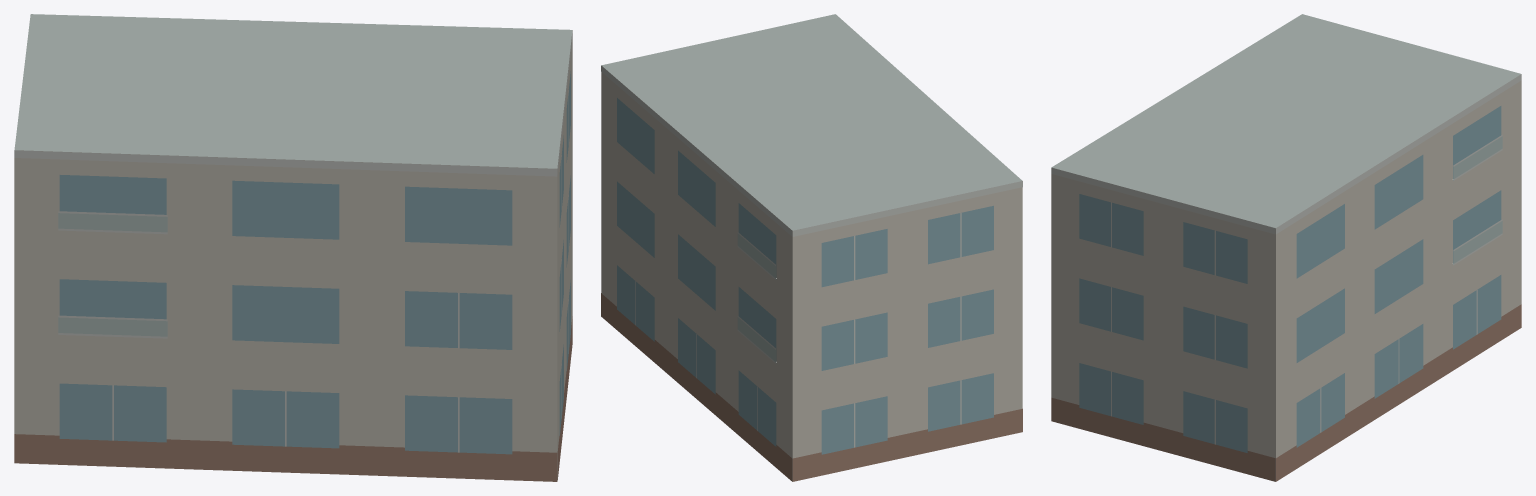
The model's file is survey-upis-32486874.glb.
3 views of the same model, side by side, from view 1: azimuth 30°, elevation 25°; view 2: azimuth 150°, elevation 25°; view 3: azimuth 270°, elevation 25° (orthographic). The views are drawn at different scales.
Visible parts, largest first — view 1: survey-upis-32486874.tmp; view 2: survey-upis-32486874.tmp; view 3: survey-upis-32486874.tmp.
Boxes of the visible parts, x1,y1,x2,y2 form: survey-upis-32486874.tmp: [14, 14, 572, 481]; survey-upis-32486874.tmp: [601, 14, 1022, 481]; survey-upis-32486874.tmp: [1051, 14, 1521, 481].
Size of the model in its own units: 17.76 by 9.8 by 16.48.
